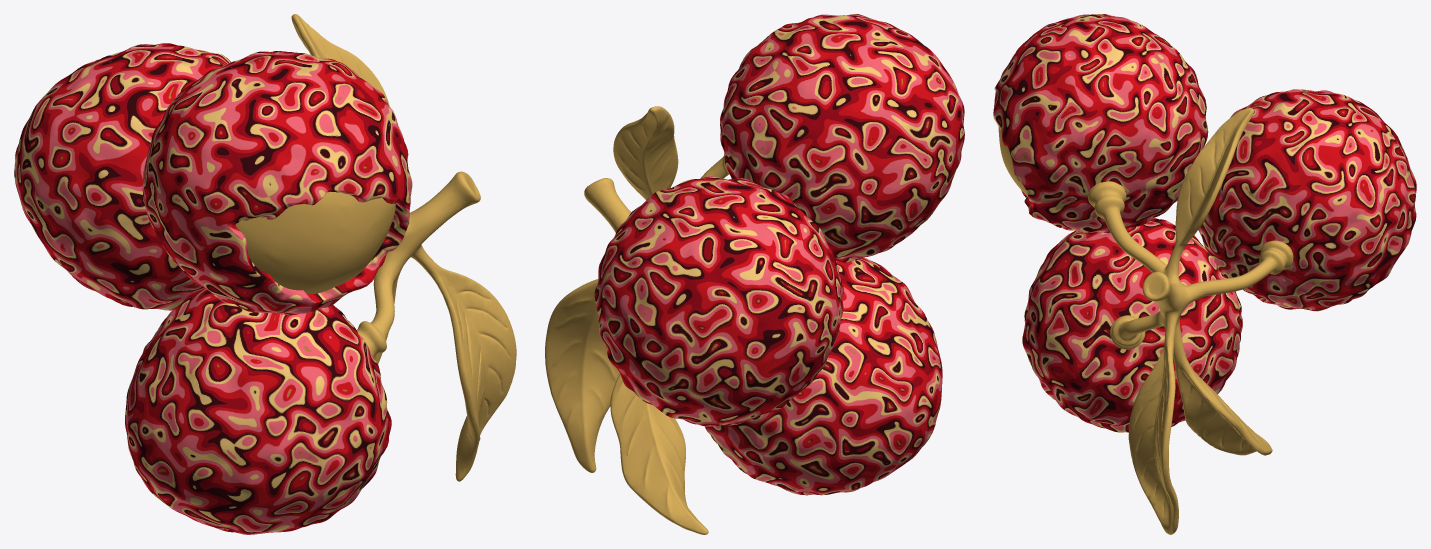
File: lychee.glb
3 views of the same model, side by side, from view 1: azimuth 30°, elevation 25°; view 2: azimuth 150°, elevation 25°; view 3: azimuth 270°, elevation 25° (orthographic). The views are drawn at different scales.
Parts seen in each view (by area): view 1: lychee_Body3, lychee_Body1, lychee_Body4, lychee_Body0, lychee_Body2; view 2: lychee_Body4, lychee_Body1, lychee_Body3, lychee_Body0; view 3: lychee_Body1, lychee_Body4, lychee_Body3, lychee_Body0.
Part boxes in pixels (x1=…): lychee_Body3: x1=125, y1=288, x2=391, y2=534; lychee_Body1: x1=142, y1=51, x2=412, y2=315; lychee_Body4: x1=14, y1=43, x2=230, y2=310; lychee_Body0: x1=291, y1=14, x2=516, y2=481; lychee_Body2: x1=235, y1=192, x2=395, y2=293; lychee_Body4: x1=594, y1=176, x2=843, y2=426; lychee_Body1: x1=720, y1=14, x2=964, y2=262; lychee_Body3: x1=705, y1=257, x2=942, y2=495; lychee_Body0: x1=545, y1=106, x2=729, y2=534; lychee_Body1: x1=993, y1=14, x2=1208, y2=232; lychee_Body4: x1=1198, y1=89, x2=1416, y2=311; lychee_Body3: x1=1022, y1=218, x2=1242, y2=432; lychee_Body0: x1=1088, y1=108, x2=1293, y2=534.
Size of the model in its own units: 1.48 by 1.8 by 1.66.
Materials: 5 (3 with a texture image).
